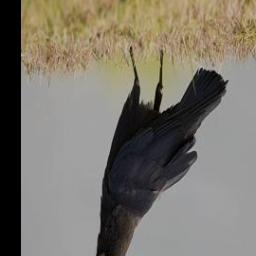Crow: (85, 46, 228, 256)
